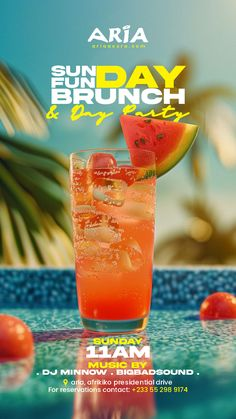CTA: (46, 386, 190, 395)
Headline: (46, 62, 195, 123)
Product: (71, 114, 162, 332)
logo: (89, 24, 150, 49)
